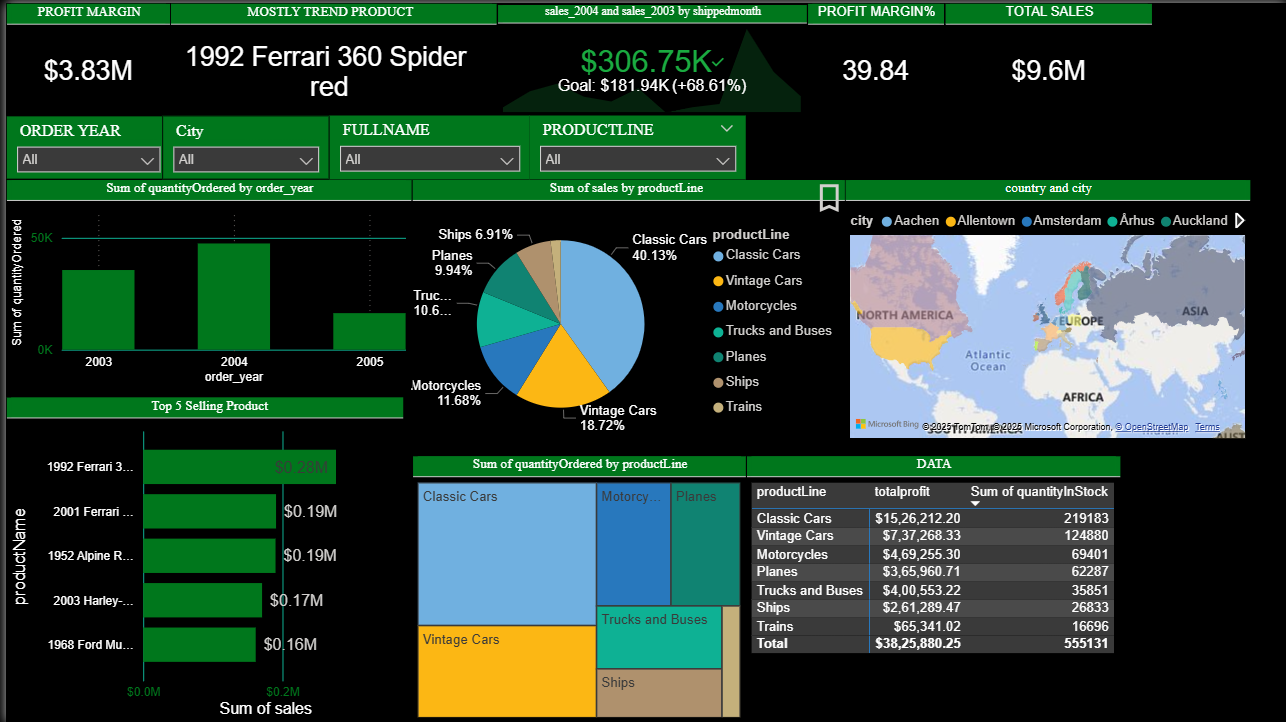

The dashboard page shown, as its layout file describes it:
{"tool":"powerbi","page":{"name":"Page 1","canvas":[1280,720],"ordinal":0},"visuals":[{"type":"card","title":"MOSTLY TREND PRODUCT","fields":{"Values":["products.Most famous Product"]},"box":[156.2,0,335,112.5],"z":0},{"type":"barChart","title":"Top 5 Selling Product","fields":{"Category":["products.productName"],"Y":["order details.sales"]},"box":[0,394.3,405.7,325.7],"z":1000},{"type":"pieChart","fields":{"Y":["order details.sales"],"Category":["productline.productLine"]},"box":[397.1,175.7,444.3,267.1],"z":2000},{"type":"pivotTable","title":"DATA","fields":{"Rows":["productline.productLine"],"Values":["order details.totalprofit","products.quantityInStock"]},"box":[740,452.5,375,218.8],"z":3000},{"type":"slicer","fields":{"Values":["order.order_year"]},"box":[0,112.5,165,63.8],"z":4000},{"type":"kpi","fields":{"TrendLine":["order.shippedmonth"],"Indicator":["order.sales_20041"],"Goal":["order.sales_2003"]},"box":[491.5,0.8,310,113.1],"z":5000},{"type":"filledMap","fields":{"Category":["customers.country"],"Series":["customers.city"]},"box":[838.8,176.2,406.2,265],"z":6000},{"type":"treemap","fields":{"Values":["order details.quantityOrdered"],"Group":["productline.productLine"]},"box":[405.7,452.9,334.3,267.1],"z":7000},{"type":"lineStackedColumnComboChart","fields":{"Category":["order.order_year"],"Y":["order details.quantityOrdered"]},"box":[0,176,406,209],"z":8000},{"type":"card","title":"PROFIT MARGIN","fields":{"Values":["order details.totalprofit"]},"box":[0,0,165,112.5],"z":9000},{"type":"card","title":"PROFIT MARGIN%","fields":{"Values":["classic_models_dataset.Profit_margin_%"]},"box":[801.2,0,137.5,113.8],"z":10000},{"type":"card","title":"TOTAL SALES","fields":{"Values":["order details.sales"]},"box":[938.3,0,208.3,113.3],"z":11000},{"type":"slicer","fields":{"Values":["office.city"]},"box":[156.2,112.5,167.5,63.8],"z":12000},{"type":"slicer","fields":{"Values":["employees.Fullname"]},"box":[323.8,112.5,200,63.8],"z":13000},{"type":"slicer","fields":{"Values":["productline.productLine"]},"box":[524,112,216,64],"z":14000},{"type":"actionButton","box":[805,175,36.7,40],"z":15000}]}

Visuals, with their boxes in screenshot pixels (x1, y1, x2, y2), scaled from the page's 1280x720 canvas onto the 1286x722 screenshot:
"MOSTLY TREND PRODUCT" card: box=[157, 0, 494, 113]
"Top 5 Selling Product" barChart: box=[0, 395, 408, 721]
pieChart - order details.sales x productline.productLine: box=[399, 176, 845, 444]
"DATA" pivotTable: box=[743, 454, 1120, 673]
slicer - order.order_year: box=[0, 113, 166, 177]
kpi - order.shippedmonth x order.sales_20041: box=[494, 1, 805, 114]
filledMap - customers.country x customers.city: box=[843, 177, 1251, 442]
treemap - order details.quantityOrdered x productline.productLine: box=[408, 454, 743, 721]
lineStackedColumnComboChart - order.order_year x order details.quantityOrdered: box=[0, 176, 408, 386]
"PROFIT MARGIN" card: box=[0, 0, 166, 113]
"PROFIT MARGIN%" card: box=[805, 0, 943, 114]
"TOTAL SALES" card: box=[943, 0, 1152, 114]
slicer - office.city: box=[157, 113, 325, 177]
slicer - employees.Fullname: box=[325, 113, 526, 177]
slicer - productline.productLine: box=[526, 112, 743, 176]
actionButton: box=[809, 175, 846, 216]
